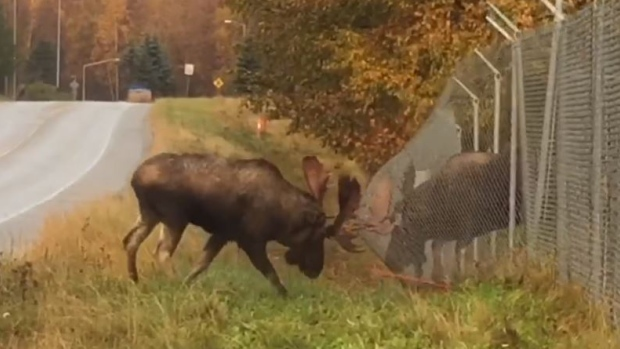moose: (120, 148, 360, 293), (365, 145, 510, 280)
